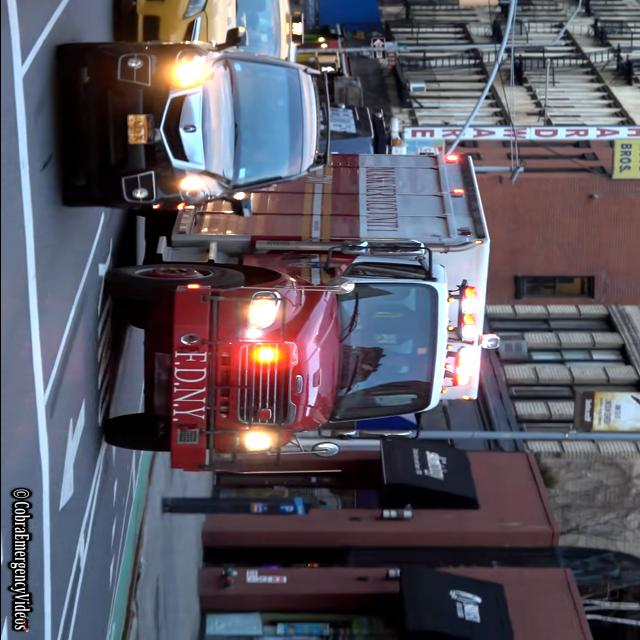emergency-vehicles: (84, 138, 508, 477)
